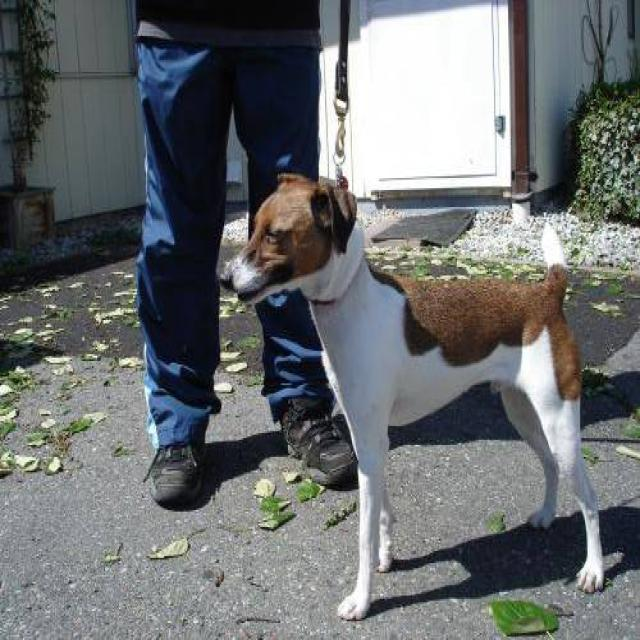dog: (218, 171, 606, 621)
